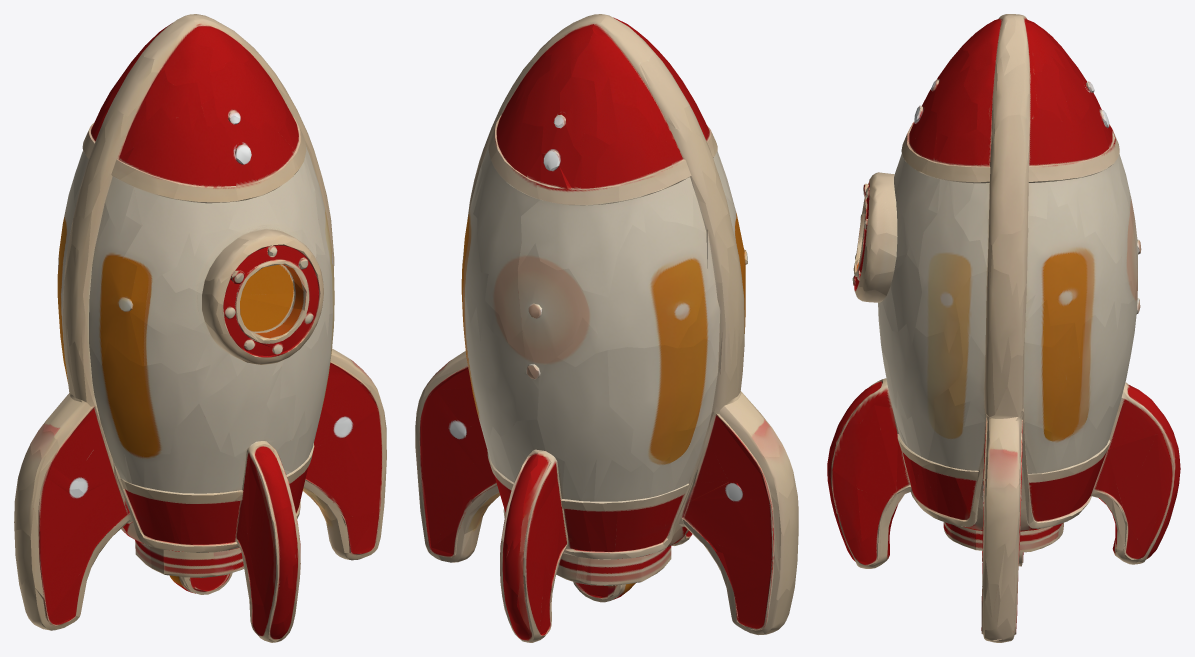
3 renders of one model, left to right at view 1: azimuth 30°, elevation 25°; view 2: azimuth 150°, elevation 25°; view 3: azimuth 270°, elevation 25°, orthographic. The views are drawn at different scales.
Bounding box in the file's own units: 1.27 × 1.9 × 1.11.
Materials: 1 (1 with a texture image).
